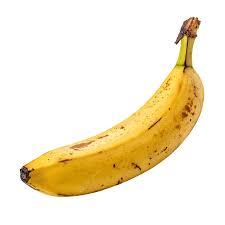non-mango: (19, 15, 204, 197)
